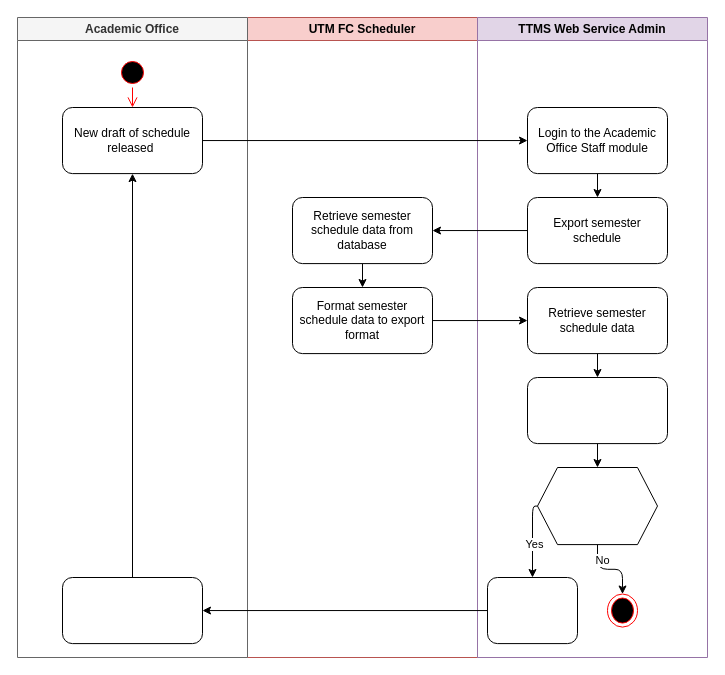
Image size: 725x675. Some labels were removed from this diagram. The centre of each missing label's shape, as x and y in pixels:
Analysis report is not satisfactory: pixel 597 505
Modify the schedule to fix issues: pixel 132 610
Report issue of the schedule draft: pixel 532 610
Upload schedule data to TTMS Web Service: pixel 597 410
